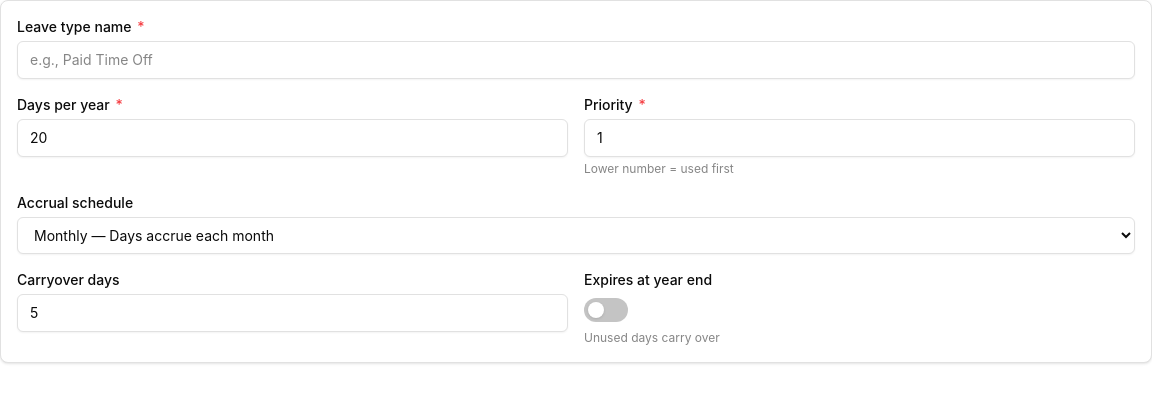
Test: LeaveTypeForm › validation › clears name error on valid input
Click the field with placeholder "e.g., Paid Time Off".
click(576, 60)  # box [17,41,1135,79]
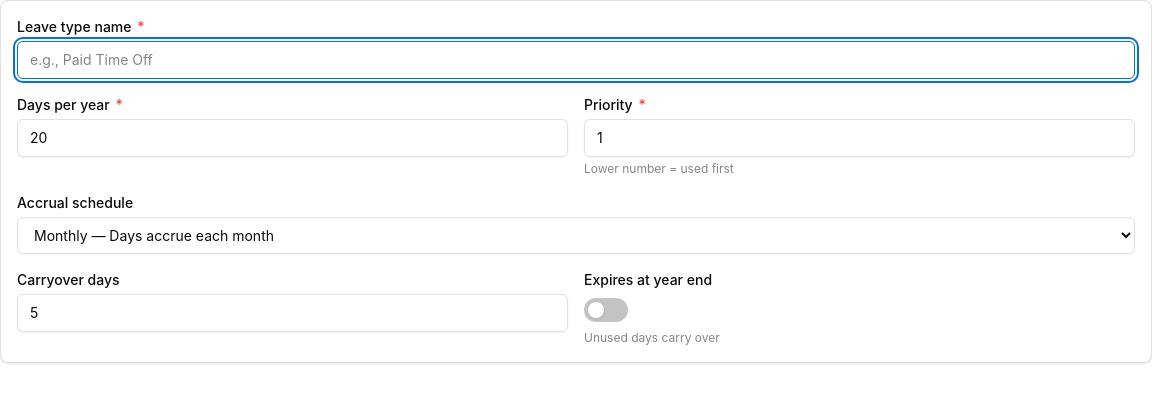
Press Tab
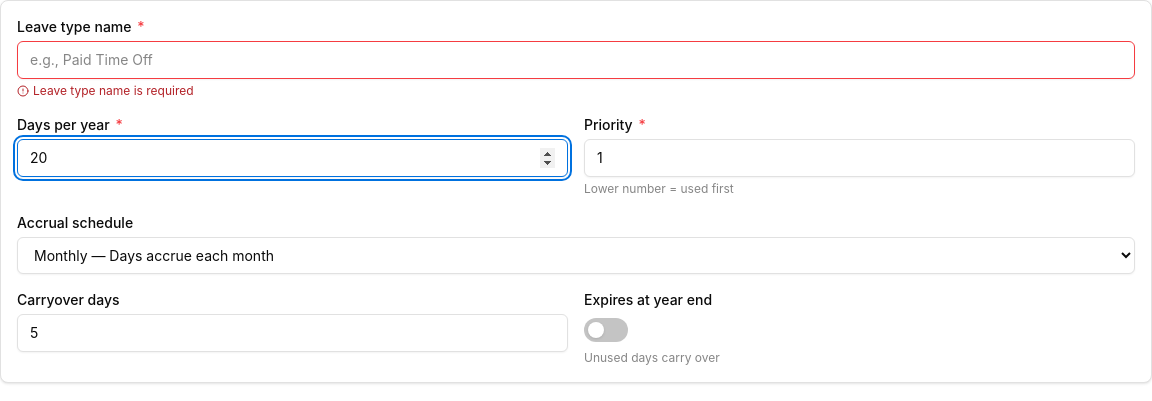
Now the text "Leave type name is required" is shown, box [17,83,194,98]
Type "Valid Name" into the field with placeholder "e.g., Paid Time Off".
click(576, 60); type("Valid Name")  # box [17,41,1135,79]
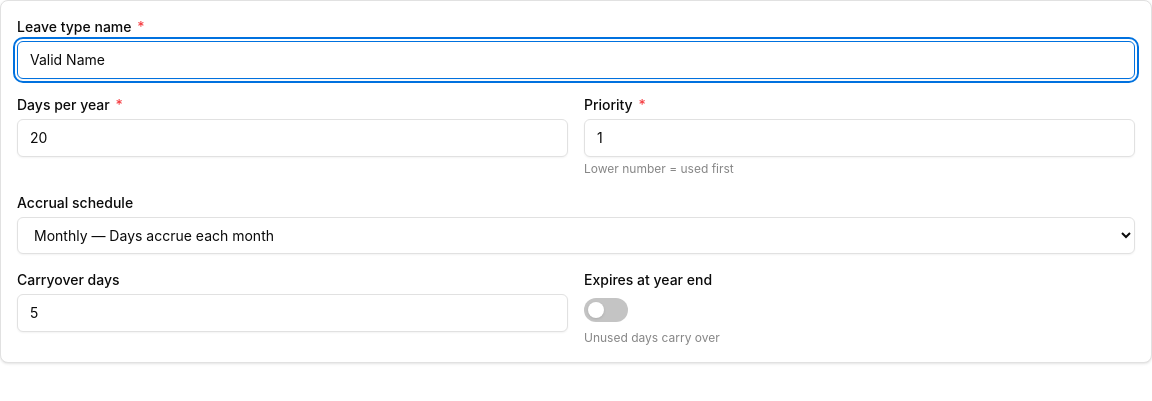
Now the text "name is required" is gone
